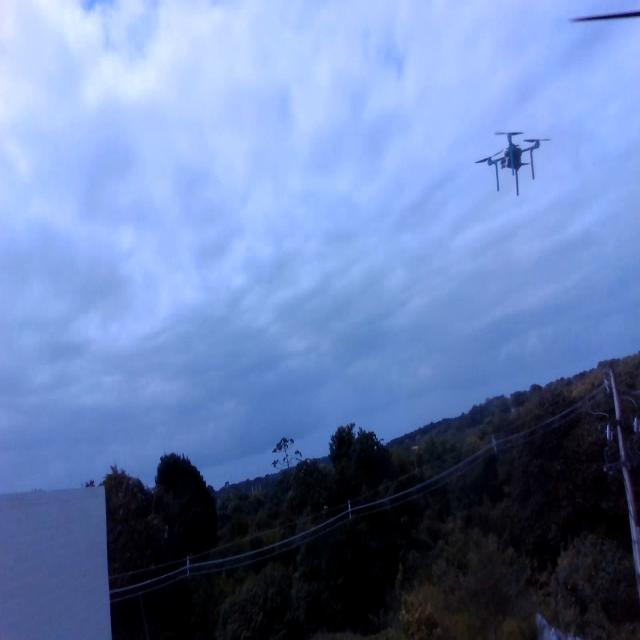-uav-: (473, 115, 554, 209)
